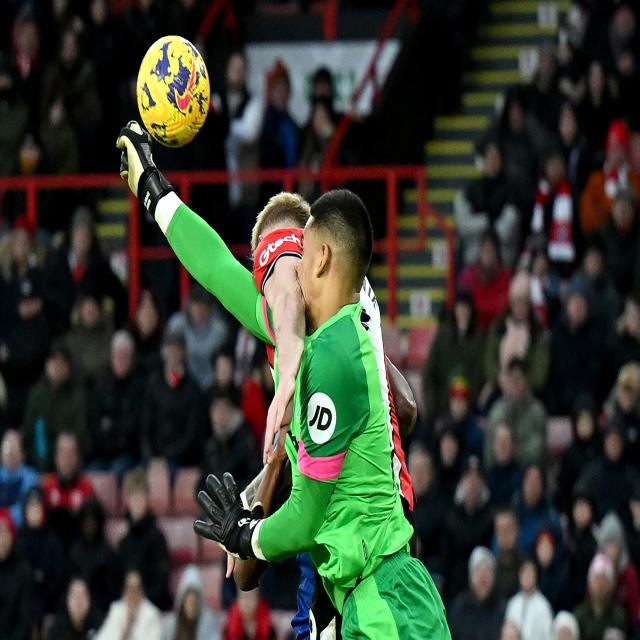collide: (281, 251, 323, 317), (266, 403, 283, 482)
possible foul: (89, 34, 473, 631)
